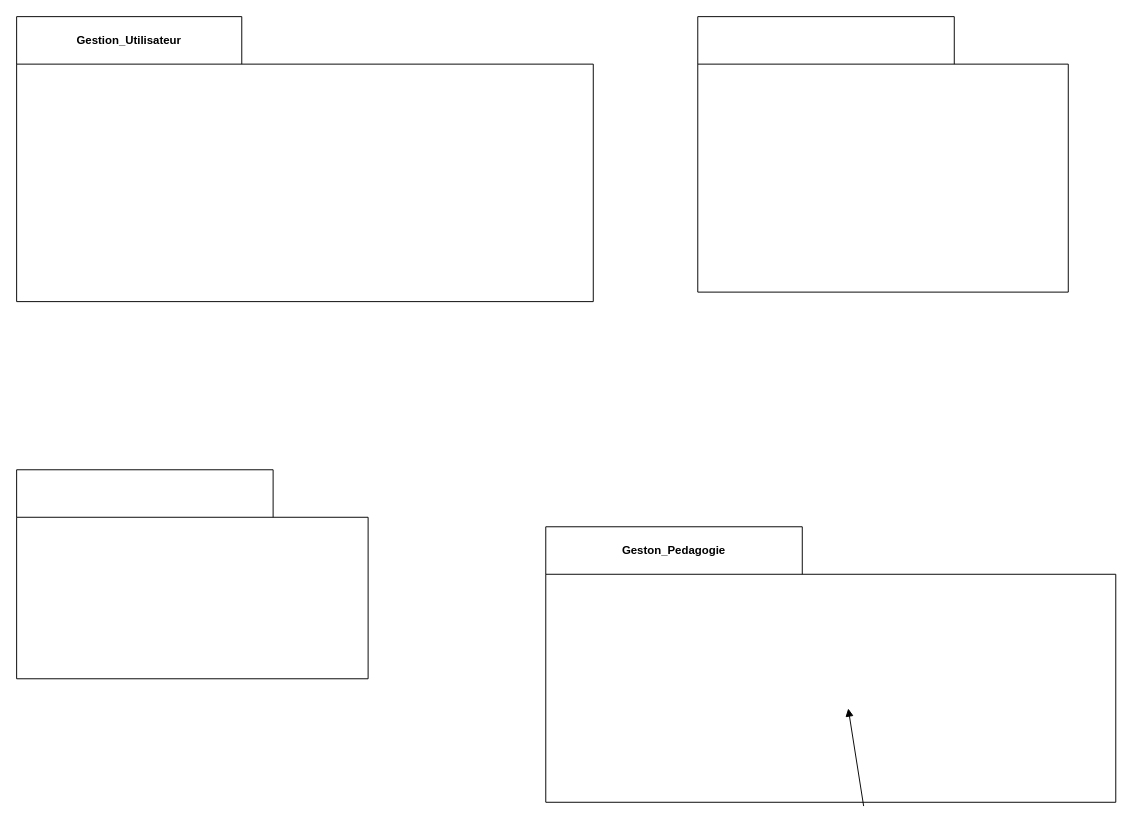
This 1132x830 diagram has some shape labels left out. Here are the shapes that lost their labels. From the top down, the centre of each, then its label:
At pixel 882 154: "Gestion_Etablisement".
At pixel 192 574: "Evaluatio_Suivi".
